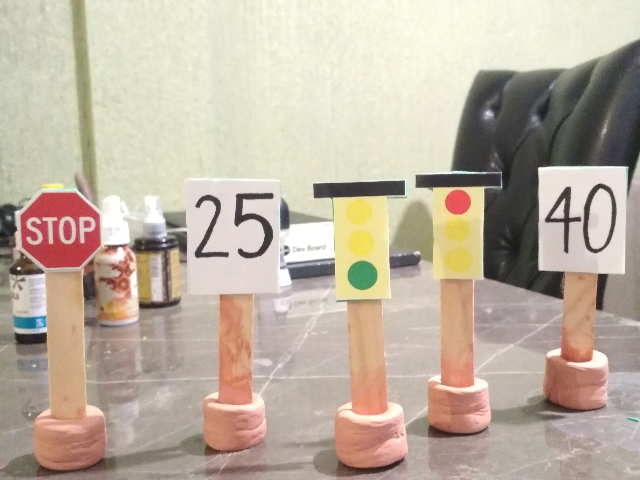Green Traffic Light: (311, 177, 406, 303)
Red Traffic Light: (416, 170, 503, 284)
Speed Limit 25: (181, 176, 285, 298)
Speed Limit 40: (535, 160, 631, 276)
Stop Sign: (17, 184, 106, 274)
